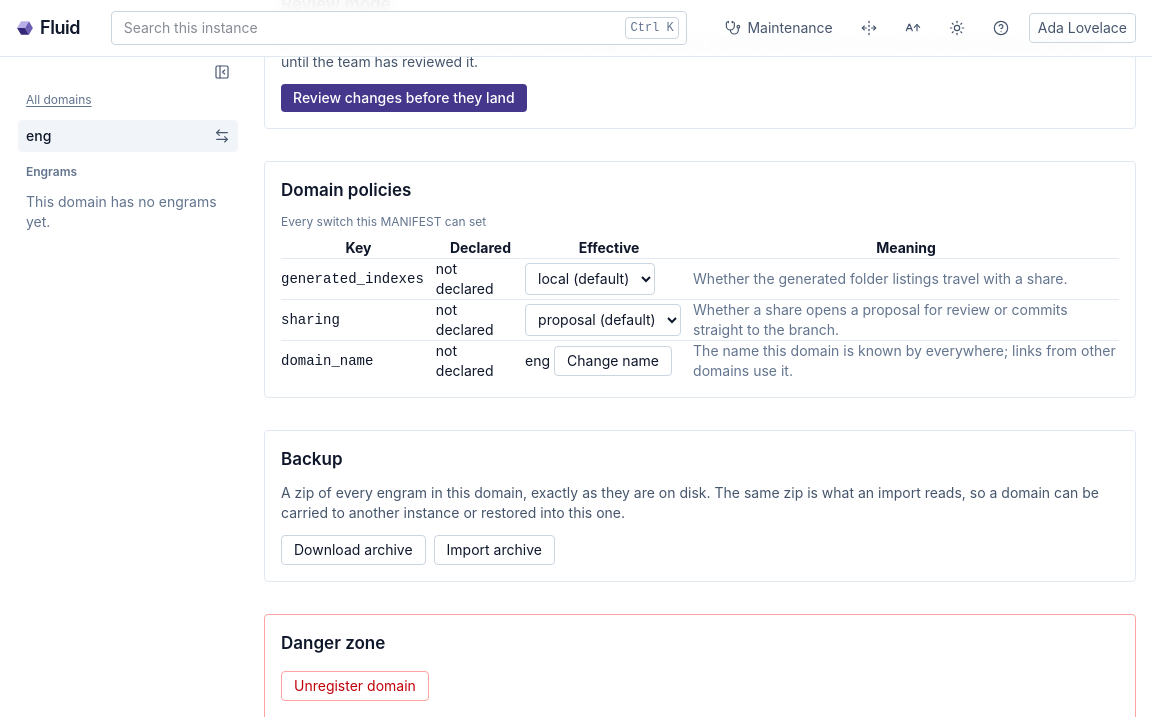
the domain policies card › opens the rename dialog from a 'Change name' button beside domain_name, for the owner
(page scrolled)
Step 1. Click the button "Change name" → (613, 361), box left=554, top=346, right=672, bottom=376
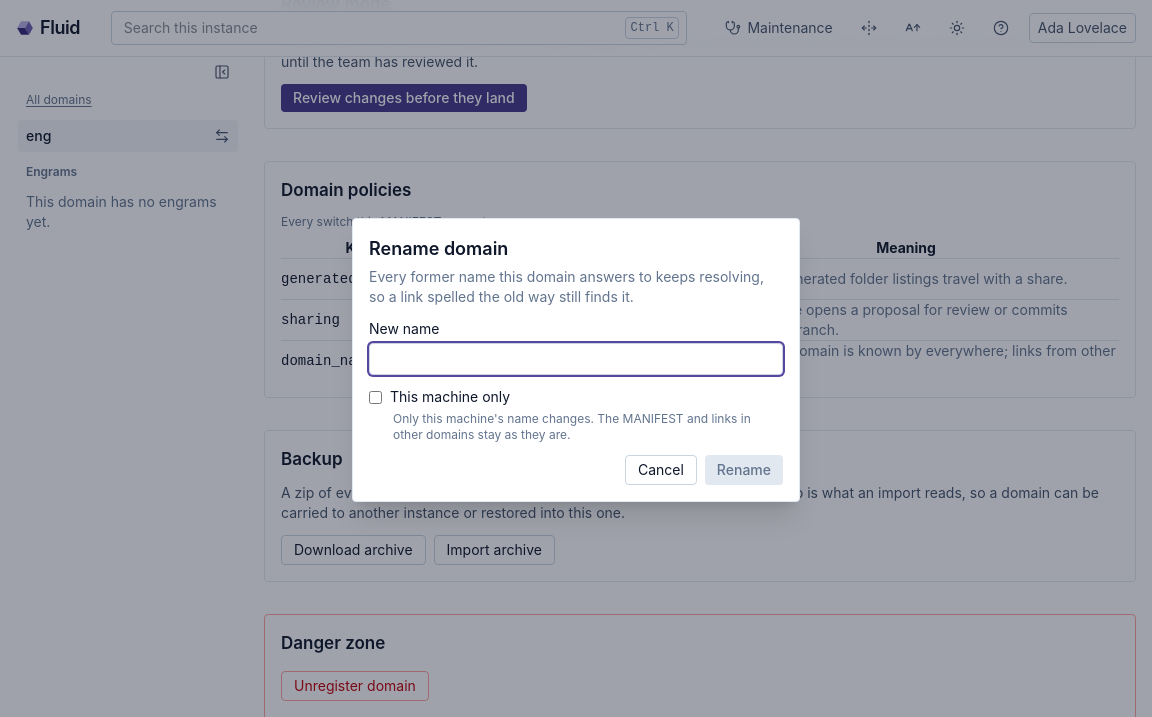
Result: the field labelled "New name" is shown at left=369, top=343, right=783, bottom=375
